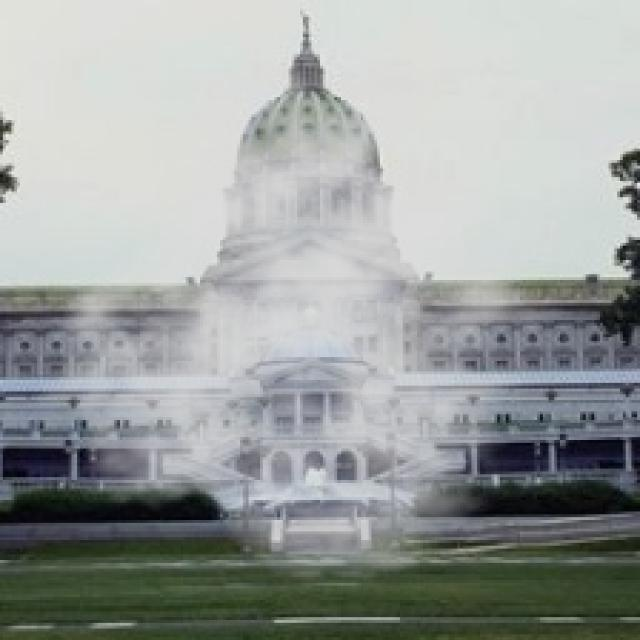smoke: (34, 68, 589, 583)
